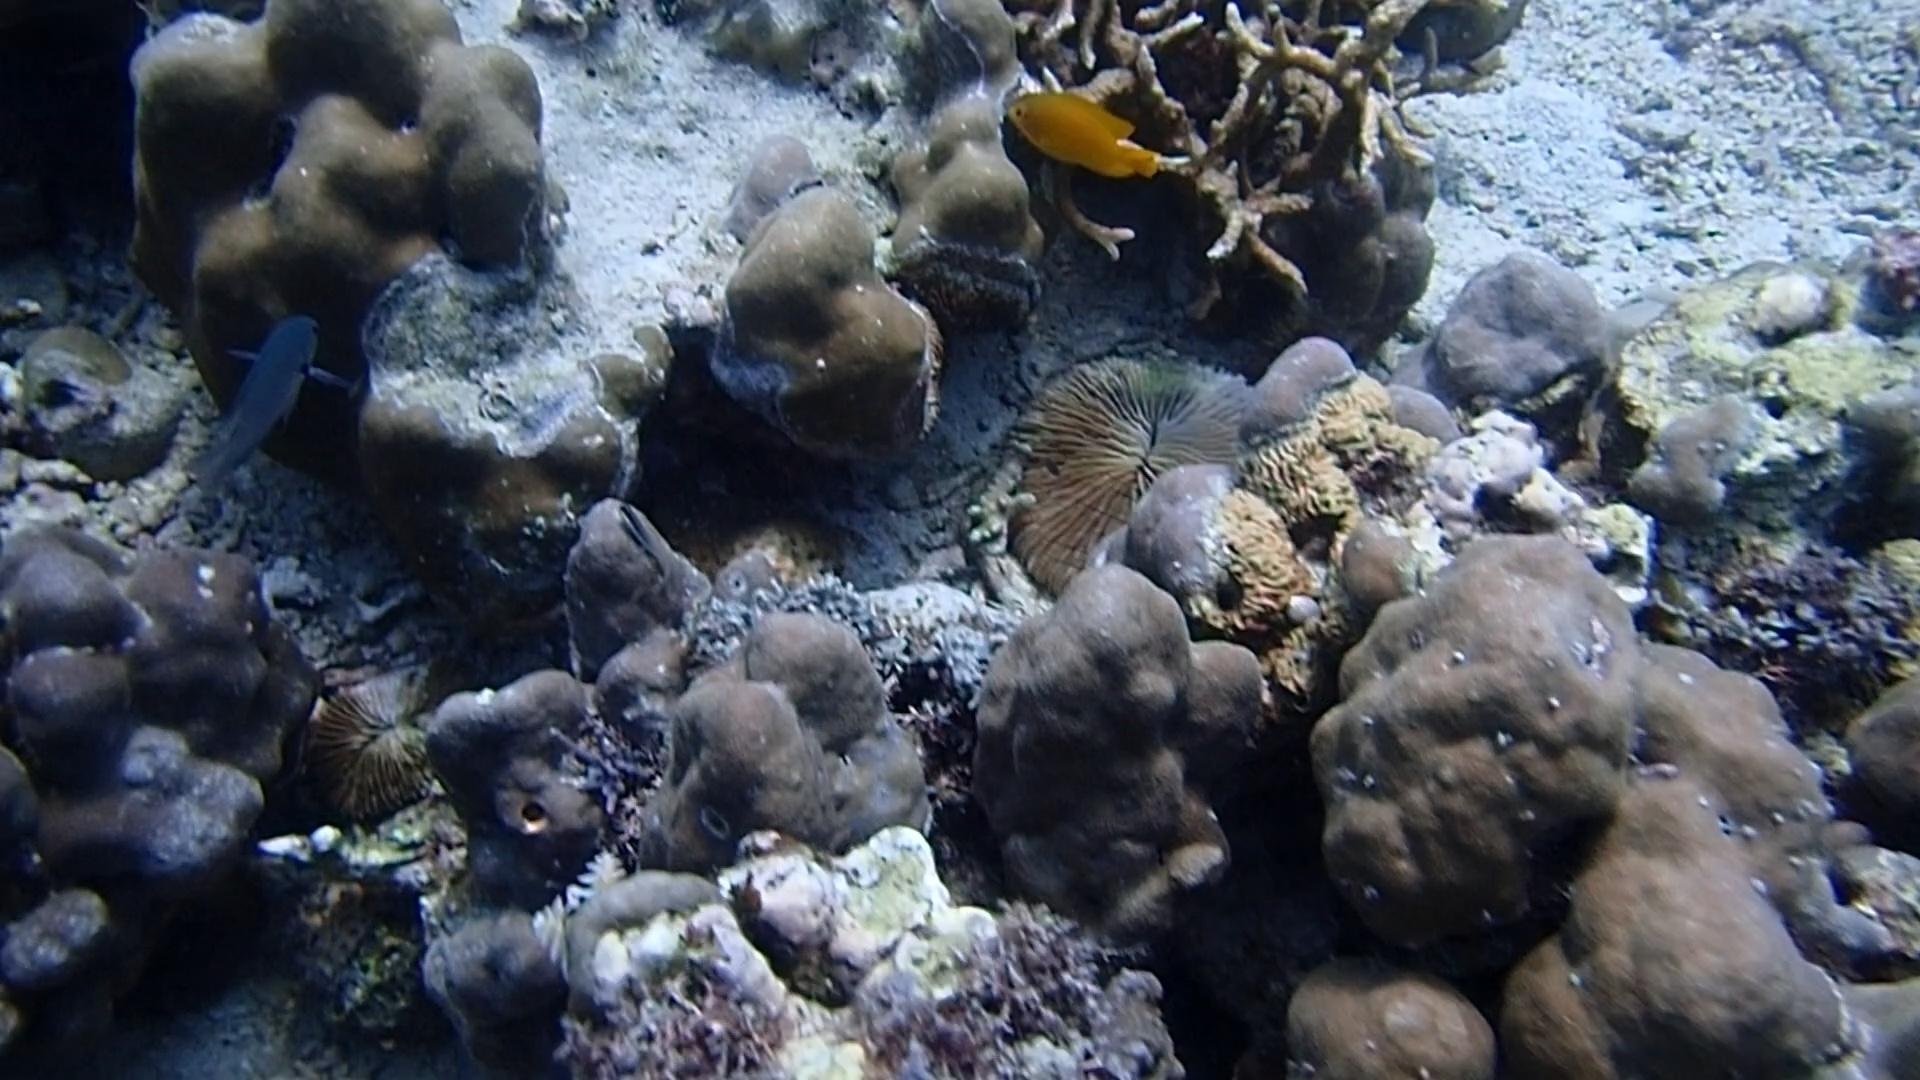Blue Fish Two: (185, 307, 344, 510)
Yellow Fish: (988, 76, 1170, 187)
